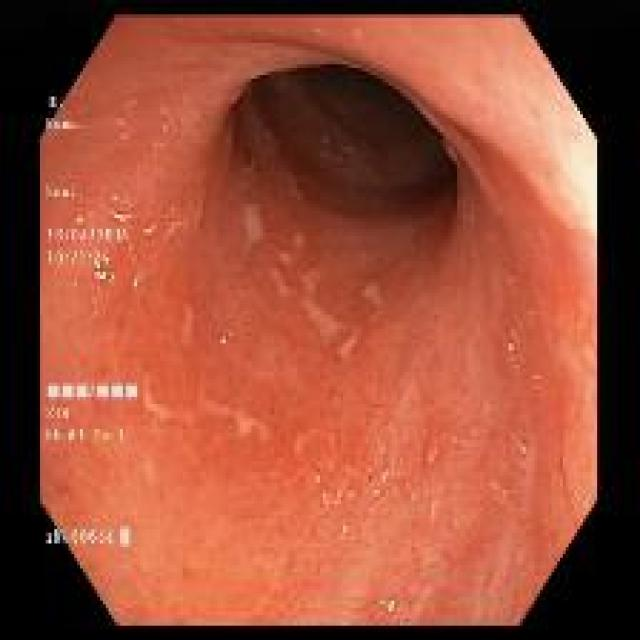ulcerative-colitis: (40, 19, 598, 624)
